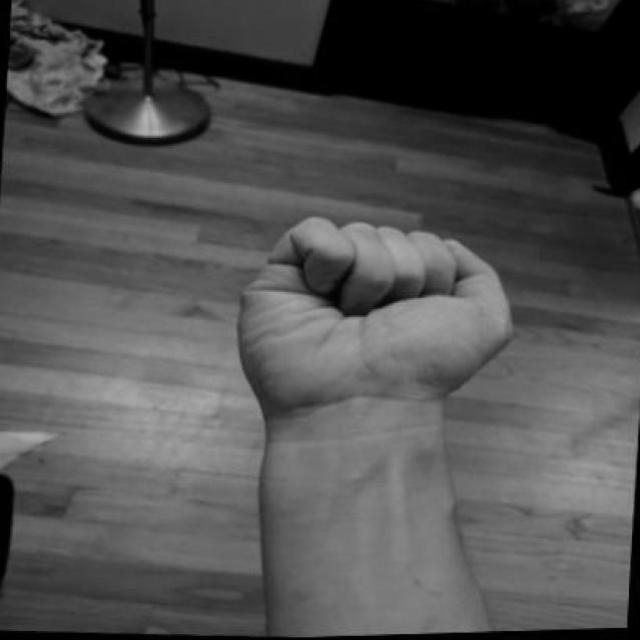A: (230, 203, 526, 455)
